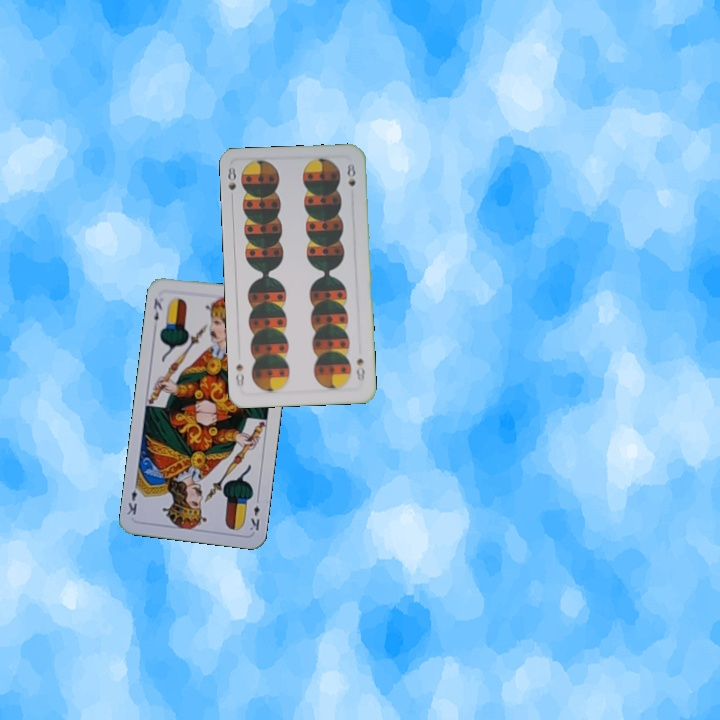EK: (246, 493, 262, 533), (149, 294, 165, 323)
S8: (224, 163, 239, 204), (352, 354, 367, 385)
